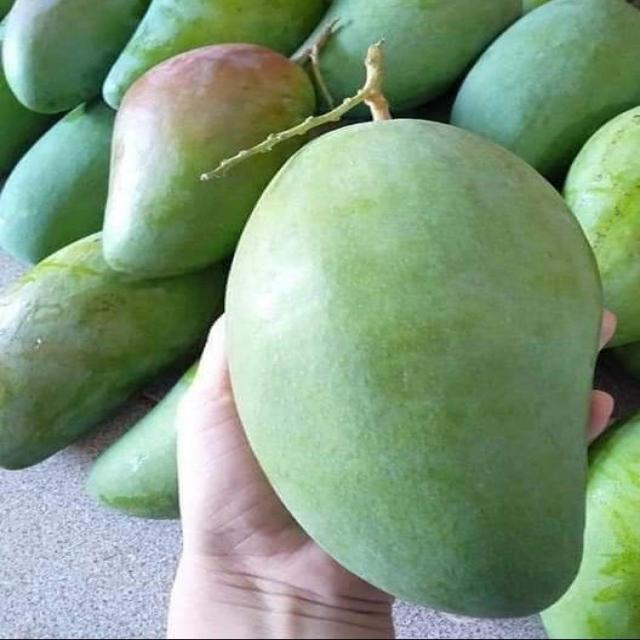mango: (227, 120, 602, 616), (0, 235, 225, 469), (105, 45, 315, 277), (453, 0, 639, 178), (104, 0, 327, 108), (304, 0, 522, 110), (544, 415, 639, 639), (0, 102, 115, 264), (564, 108, 639, 346), (88, 366, 196, 518), (4, 0, 149, 113), (0, 22, 53, 175), (613, 343, 639, 378), (523, 0, 549, 13), (0, 0, 14, 19)
